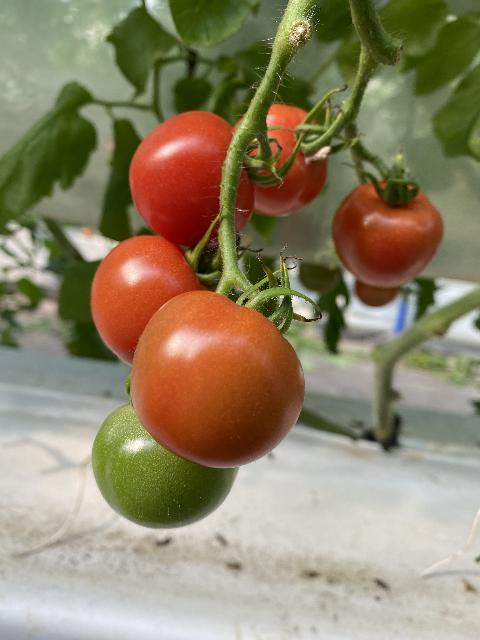l_fully_ripened: (129, 110, 256, 249), (91, 234, 217, 367), (331, 180, 445, 288), (235, 104, 328, 217)
l_green: (91, 401, 240, 530)
l_half_ripened: (130, 290, 305, 469)
